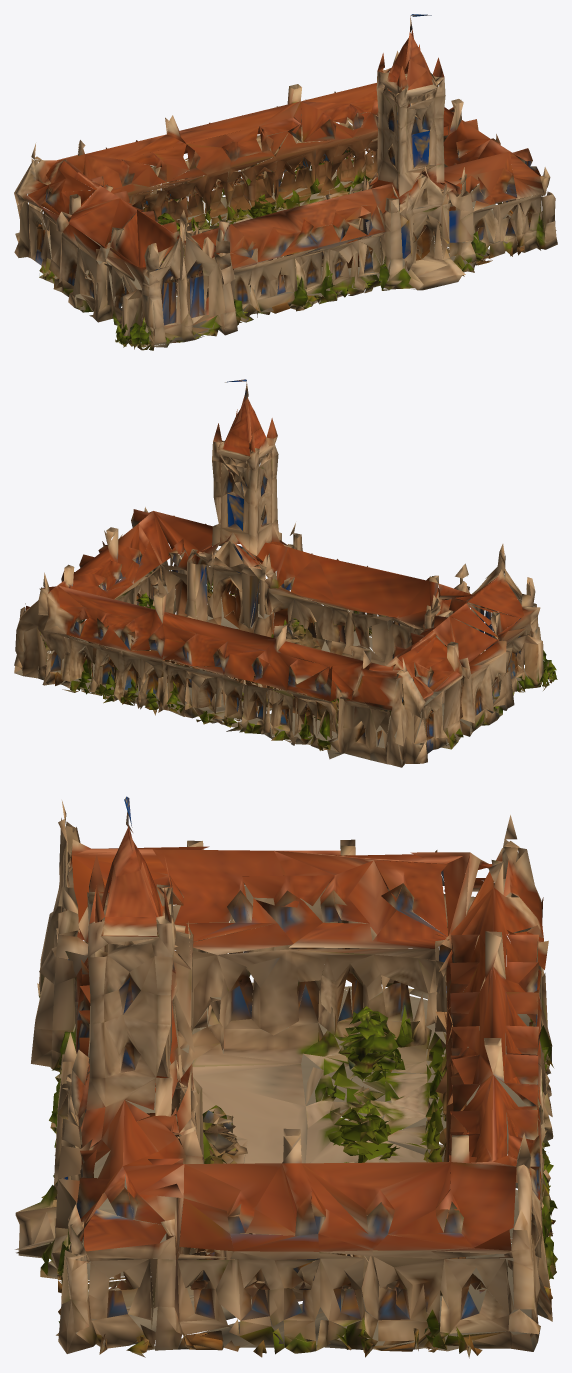
The model's file is World784ed44e61.glb.
The picture shows the model from 3 angles, top to bottom: view 1: azimuth 30°, elevation 25°; view 2: azimuth 150°, elevation 25°; view 3: azimuth 270°, elevation 25°; orthographic projection. The views are drawn at different scales.
Parts seen in each view (by area): view 1: World784ed44e61; view 2: World784ed44e61; view 3: World784ed44e61.
Part boxes in pixels (x1,y1,x2,y2): World784ed44e61: (14,14,557,350); World784ed44e61: (14,379,557,767); World784ed44e61: (15,796,557,1358).
Bounding box in the file's own units: 7 × 3.91 × 4.23.
Materials: 1 (1 with a texture image).
